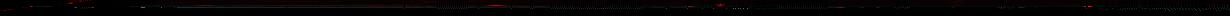Blue cone: (22, 7, 28, 8), (29, 6, 34, 7)
Yellow cone: (714, 4, 726, 7)
